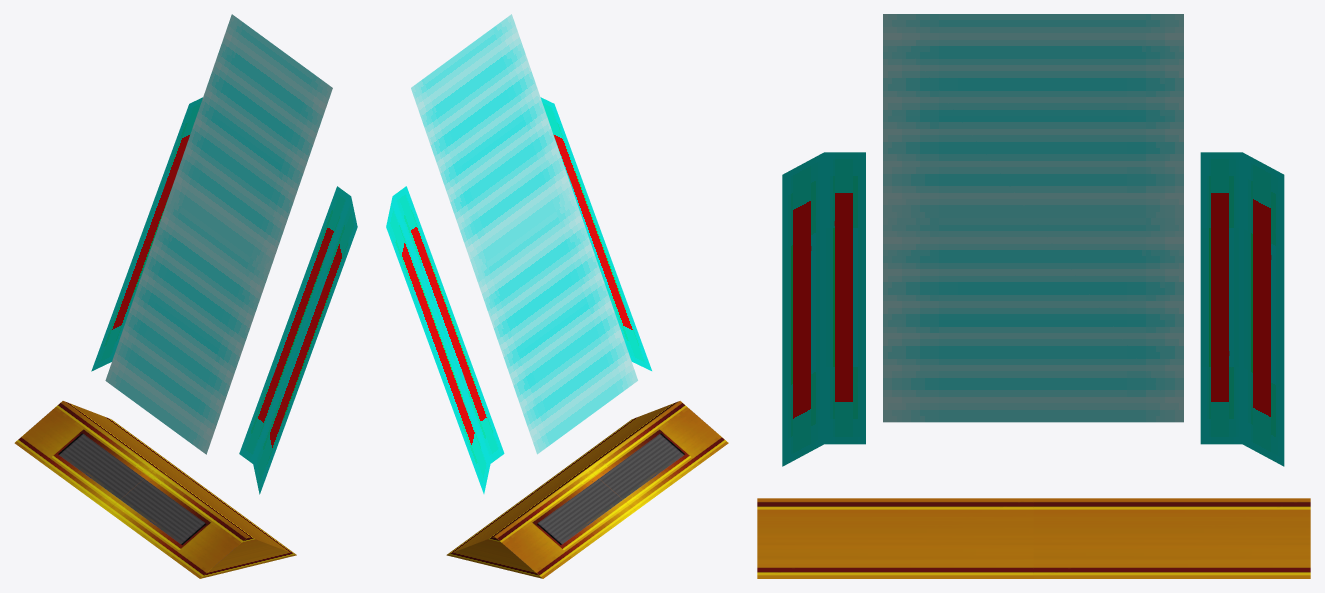
The model's file is JumpRamp.obj.
3 renders of one model, left to right at view 1: azimuth 30°, elevation 25°; view 2: azimuth 150°, elevation 25°; view 3: azimuth 270°, elevation 25°, orthographic. The views are drawn at different scales.
Size of the model in its own units: 9 by 20.5 by 16.53.
3 materials, 3 textured.
